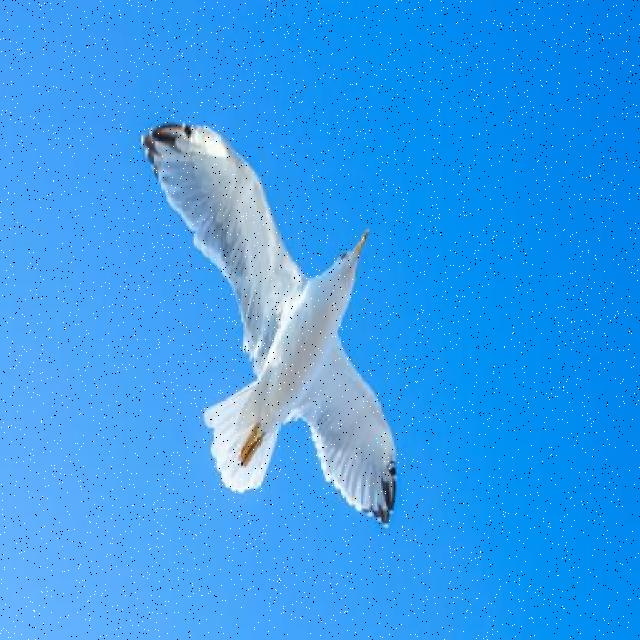bird: (142, 121, 396, 528)
